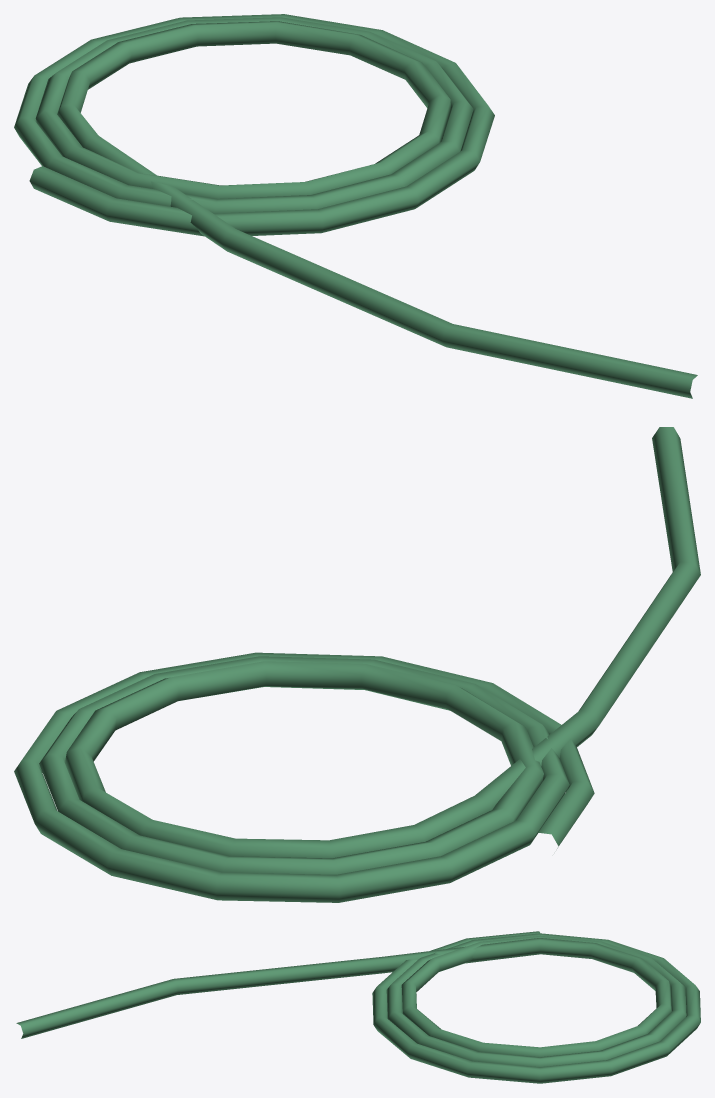
Rendered from hose_ground_LOD0.glb.
3 renders of one model, top to bottom at view 1: azimuth 30°, elevation 25°; view 2: azimuth 150°, elevation 25°; view 3: azimuth 270°, elevation 25°, orthographic. The views are drawn at different scales.
Visible parts, largest first — view 1: HY_hose_ground_LOD0; view 2: HY_hose_ground_LOD0; view 3: HY_hose_ground_LOD0.
Boxes of the visible parts, bbox=[...] form: HY_hose_ground_LOD0: bbox=[14, 14, 697, 398]; HY_hose_ground_LOD0: bbox=[14, 427, 700, 902]; HY_hose_ground_LOD0: bbox=[16, 931, 700, 1083].
Size of the model in its own units: 0.6575 by 0.0533 by 1.32.
